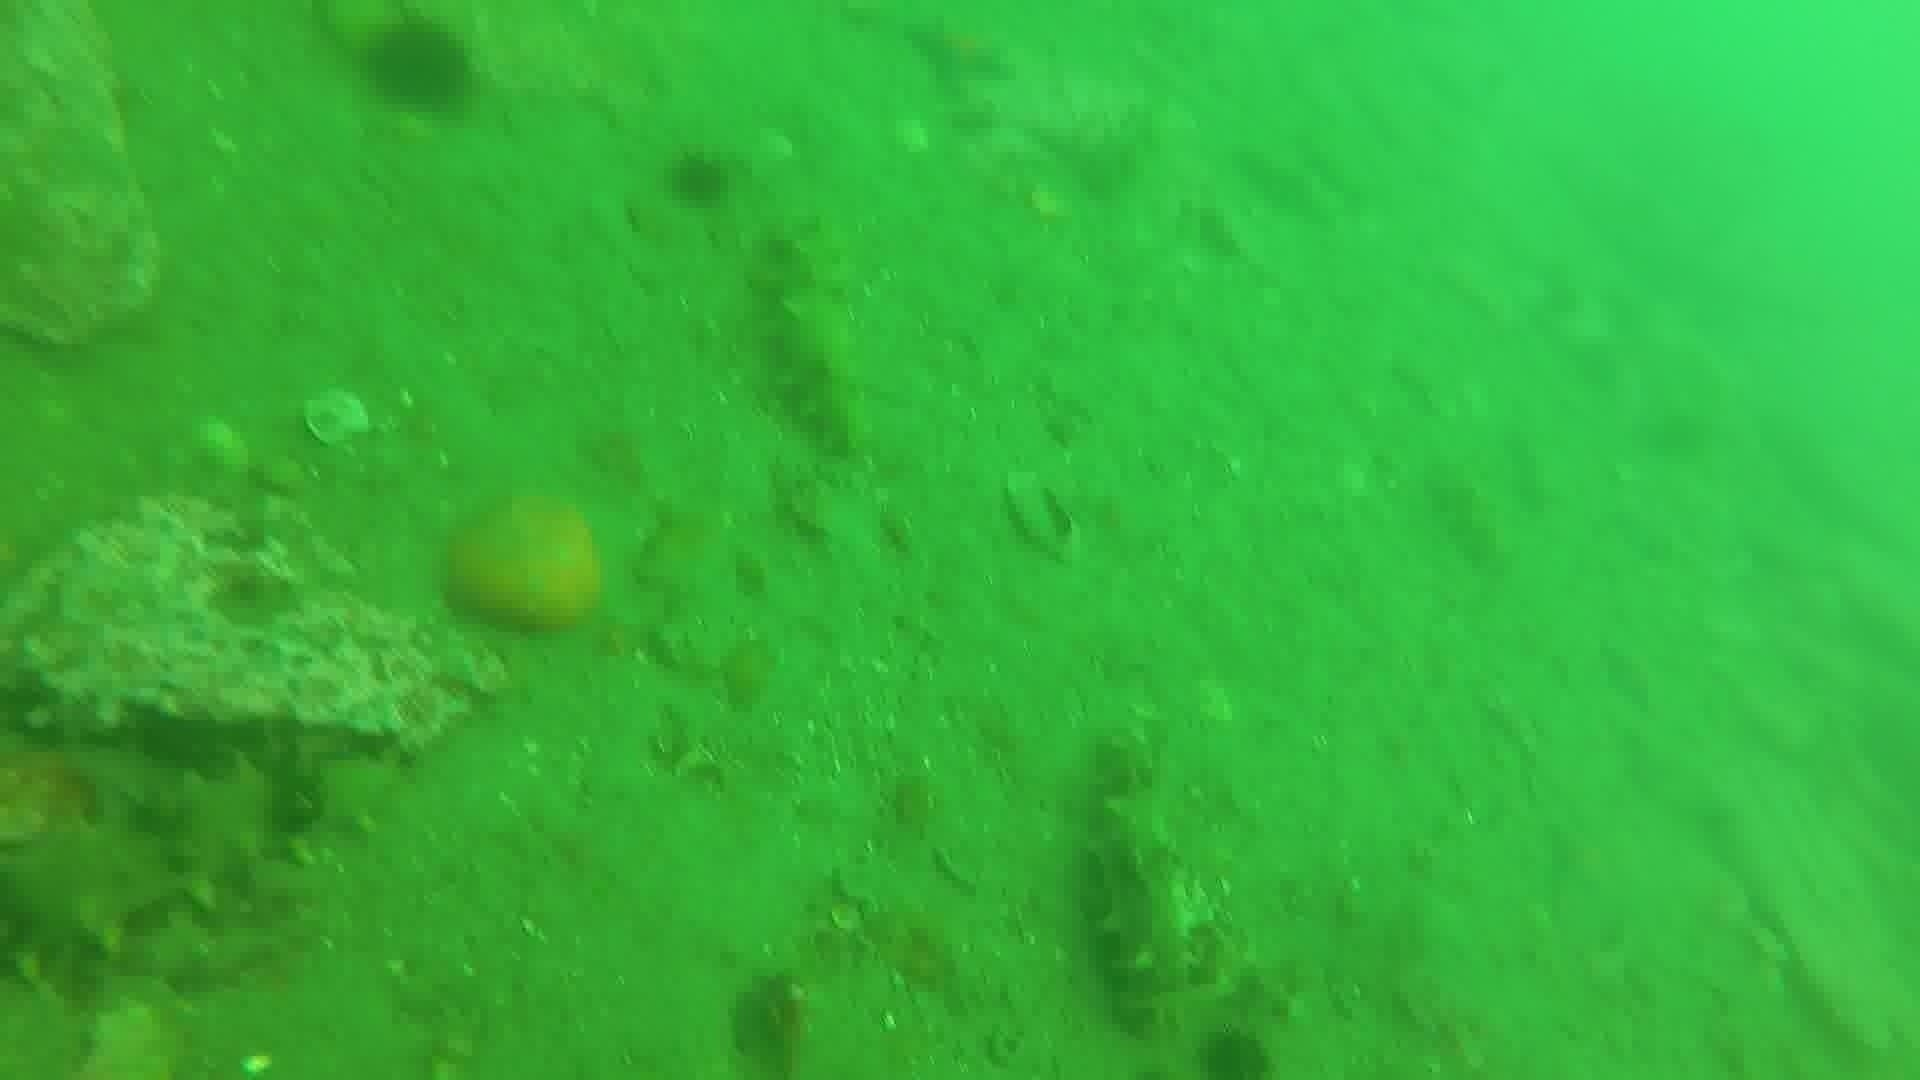echinus: (357, 15, 480, 119), (661, 145, 737, 212), (1192, 1022, 1278, 1080)
holothurian: (1, 735, 402, 981), (1079, 725, 1209, 1036), (746, 218, 872, 458)
starfish: (898, 12, 1021, 94)
